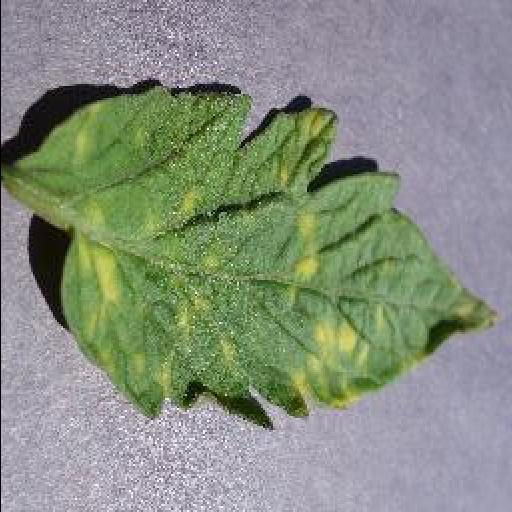disease_tomato: (27, 88, 505, 434)
